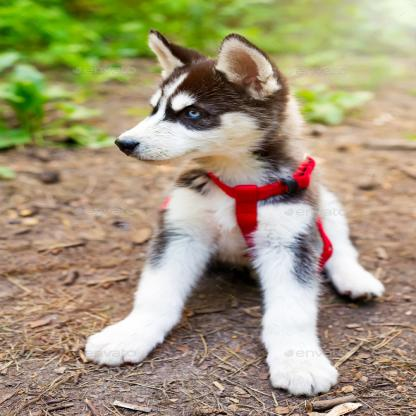dog: (85, 28, 387, 395)
